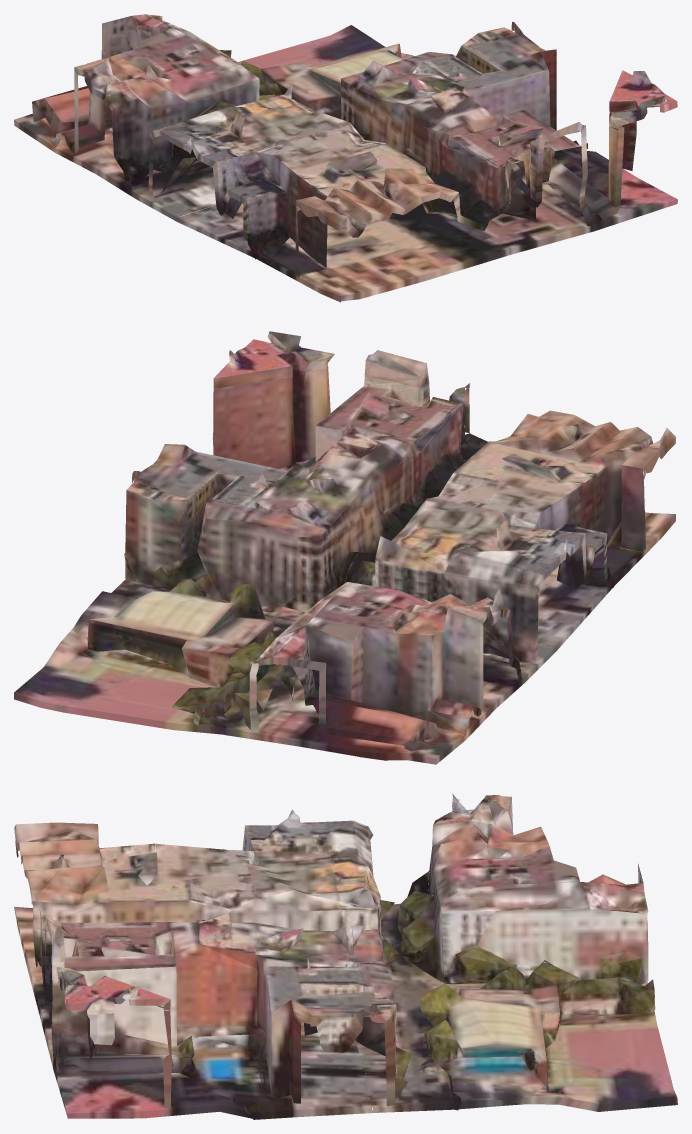
3 views of the same model, one above another, from view 1: azimuth 30°, elevation 25°; view 2: azimuth 150°, elevation 25°; view 3: azimuth 270°, elevation 25° (orthographic). The views are drawn at different scales.
Parts seen in each view (by area): view 1: Mesh_0; view 2: Mesh_0; view 3: Mesh_0.
Boxes of the visible parts, x1,y1,x2,y2 form: Mesh_0: [14, 14, 677, 302]; Mesh_0: [14, 331, 675, 764]; Mesh_0: [14, 793, 677, 1119].
Bounding box in the file's own units: 133 × 40.3 × 165.
Materials: 2 (2 with a texture image).
